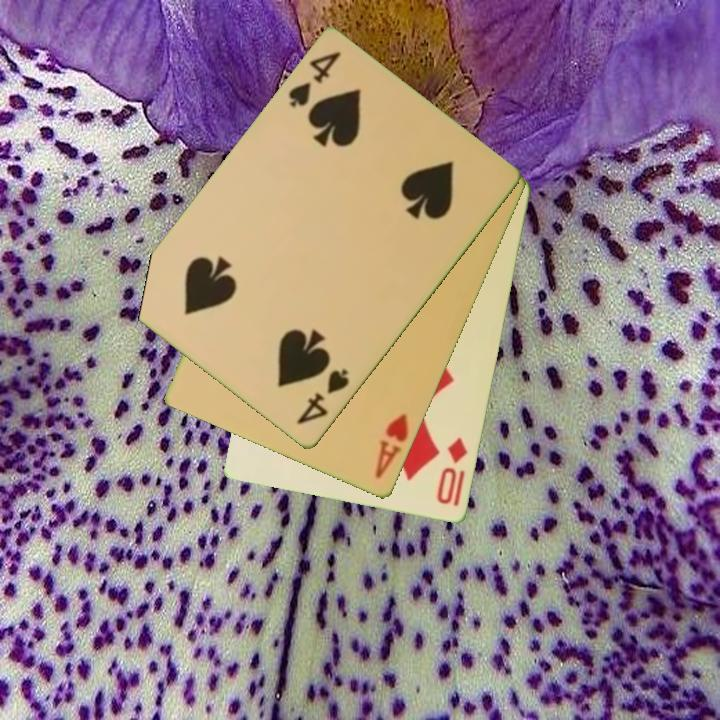10d: (433, 435, 471, 508)
4s: (293, 366, 353, 429), (284, 48, 344, 111)
Ah: (371, 410, 412, 483)
